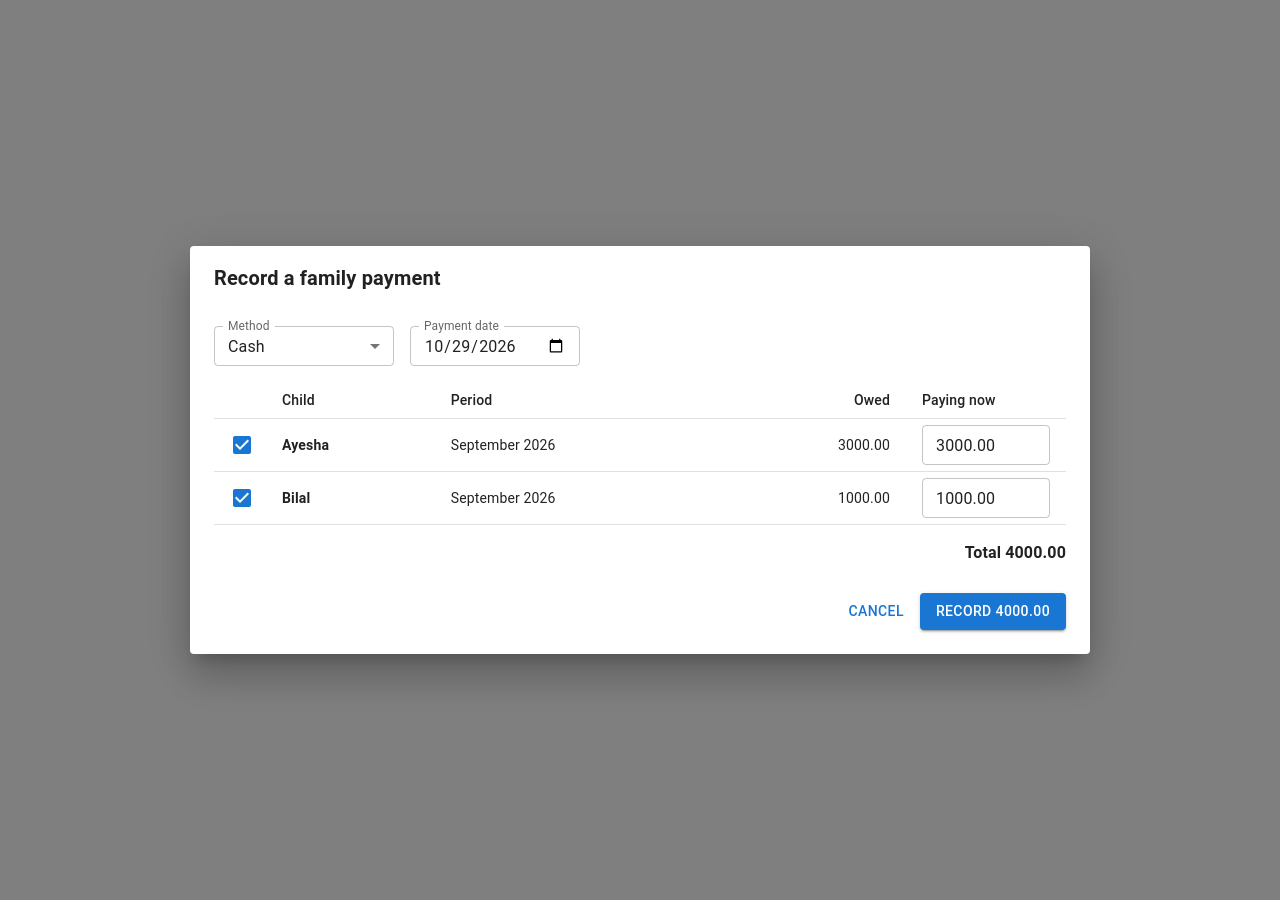
Test case: FamilyPaymentDialog › blocks recording while an amount is wrong or nothing is ticked
This screenshot has width=1280, height=900.
Replace the text in the number field named "Amount for Ayesha September 2026" with "9999" at (986, 445), box left=922, top=425, right=1050, bottom=465
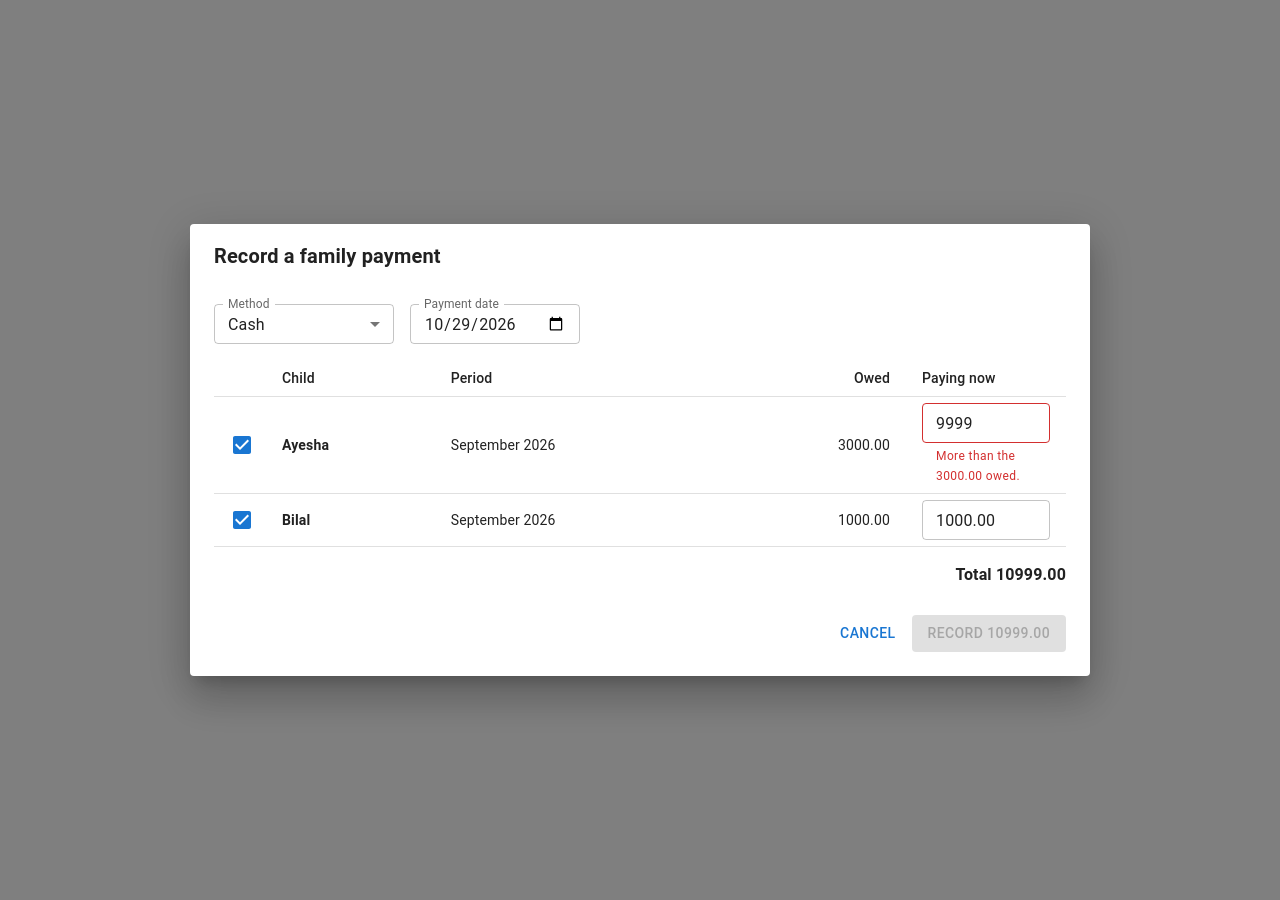
Now the text "More than the 3000.00 owed." is shown, box left=936, top=449, right=1020, bottom=483
Now the button "Record 10999.00" is disabled, box left=912, top=615, right=1066, bottom=652
Replace the text in the number field named "Amount for Ayesha September 2026" with "3000" at (986, 423), box left=922, top=403, right=1050, bottom=443
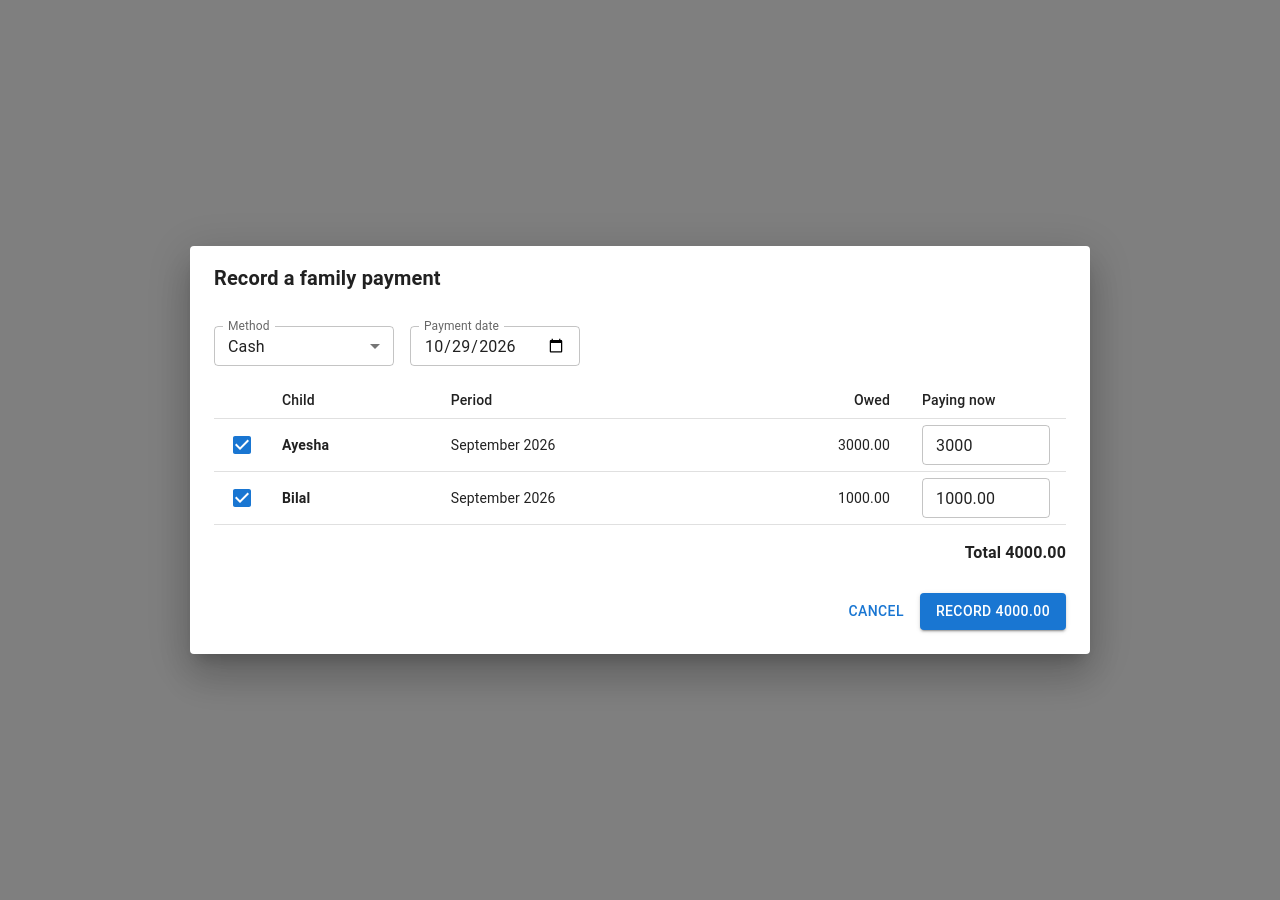
Click the checkbox named "Pay Ayesha September 2026" at (242, 445), box left=230, top=433, right=254, bottom=457
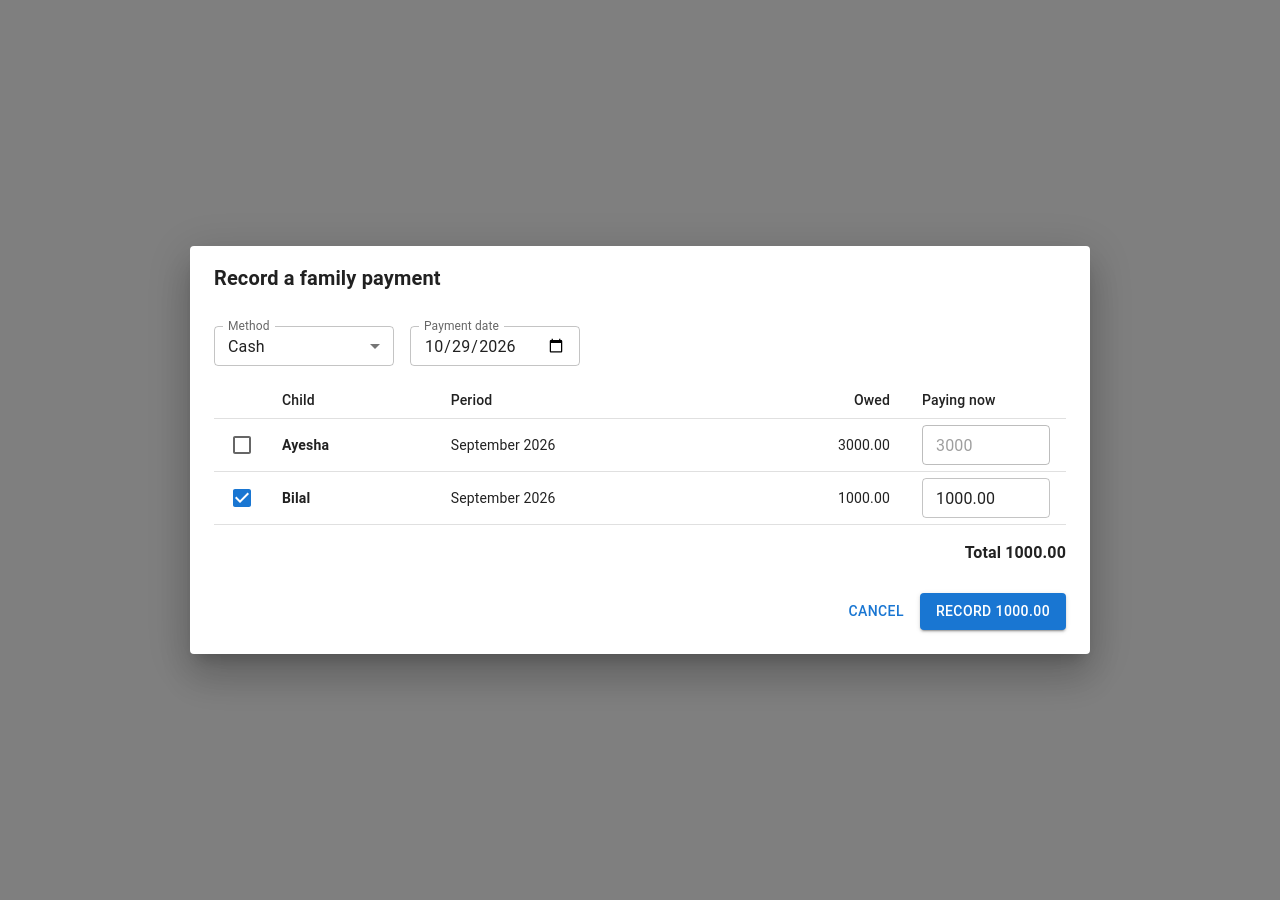
Click the checkbox named "Pay Bilal September 2026" at (242, 498), box left=230, top=486, right=254, bottom=510
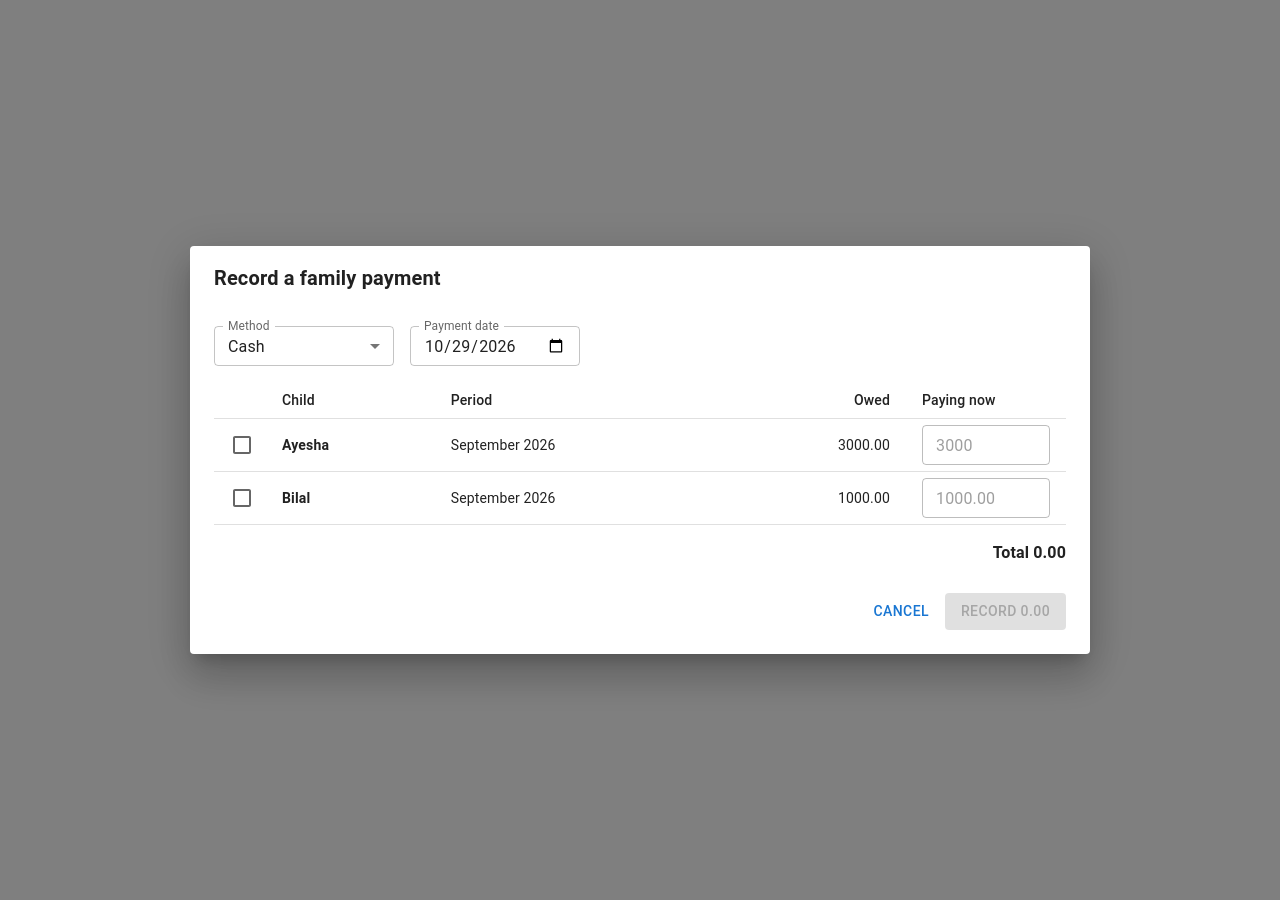
Now the button "Record 0.00" is disabled, box left=945, top=593, right=1066, bottom=630
